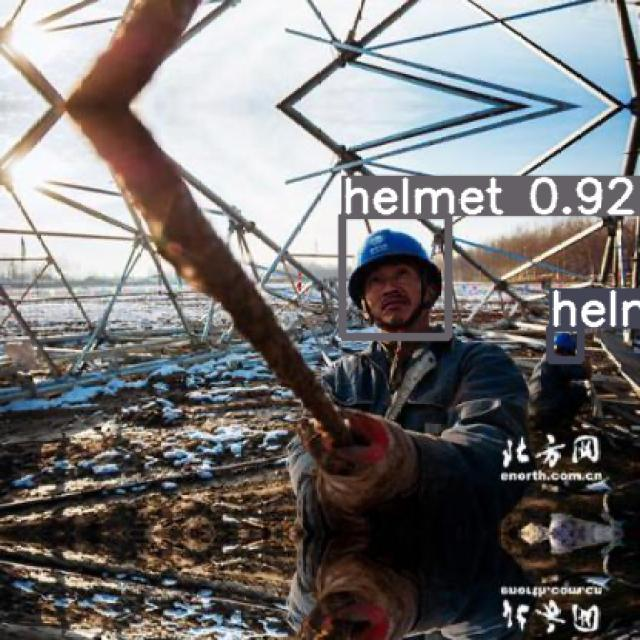blue helmet: (348, 230, 444, 307), (555, 336, 577, 359)
